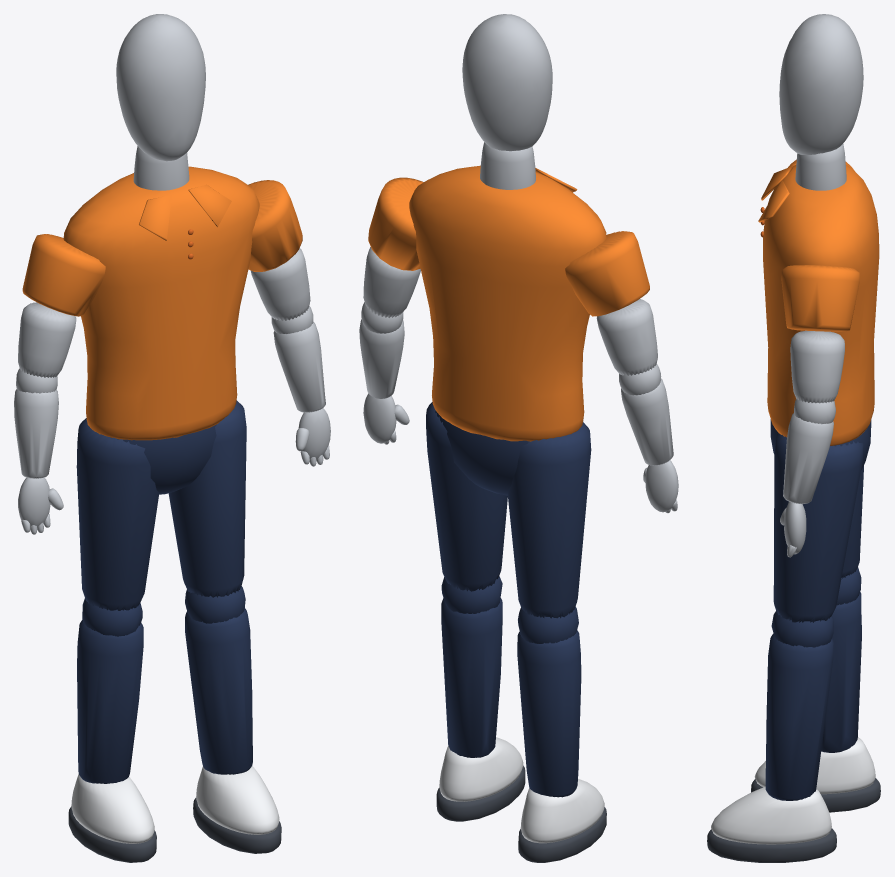
The model's file is Maniqui_simulador.glb.
3 views of the same model, side by side, from view 1: azimuth 30°, elevation 25°; view 2: azimuth 150°, elevation 25°; view 3: azimuth 270°, elevation 25° (orthographic).
Visible parts, largest first — view 1: Polo_torso, Cadera_pantalon, Cuello, Tenis_izq, Suela_izq; view 2: Polo_torso, Cadera_pantalon, Cuello, Tenis_izq, Suela_izq; view 3: Cadera_pantalon, Polo_torso, Cuello, Tenis_izq, Suela_izq.
Part boxes in pixels (<box>): Polo_torso: <box>22,166,302,440</box>; Cadera_pantalon: <box>76,400,252,783</box>; Cuello: <box>14,14,330,534</box>; Tenis_izq: <box>71,765,279,843</box>; Suela_izq: <box>68,798,281,862</box>; Polo_torso: <box>368,165,649,441</box>; Cadera_pantalon: <box>426,402,591,797</box>; Cuello: <box>359,14,678,513</box>; Tenis_izq: <box>439,737,604,843</box>; Suela_izq: <box>436,765,606,862</box>; Cadera_pantalon: <box>765,419,871,800</box>; Polo_torso: <box>758,159,879,445</box>; Cuello: <box>779,14,863,557</box>; Tenis_izq: <box>711,737,875,844</box>; Suela_izq: <box>707,778,880,862</box>.
Bounding box in the file's own units: 0.6956 × 1.73 × 0.3368.
